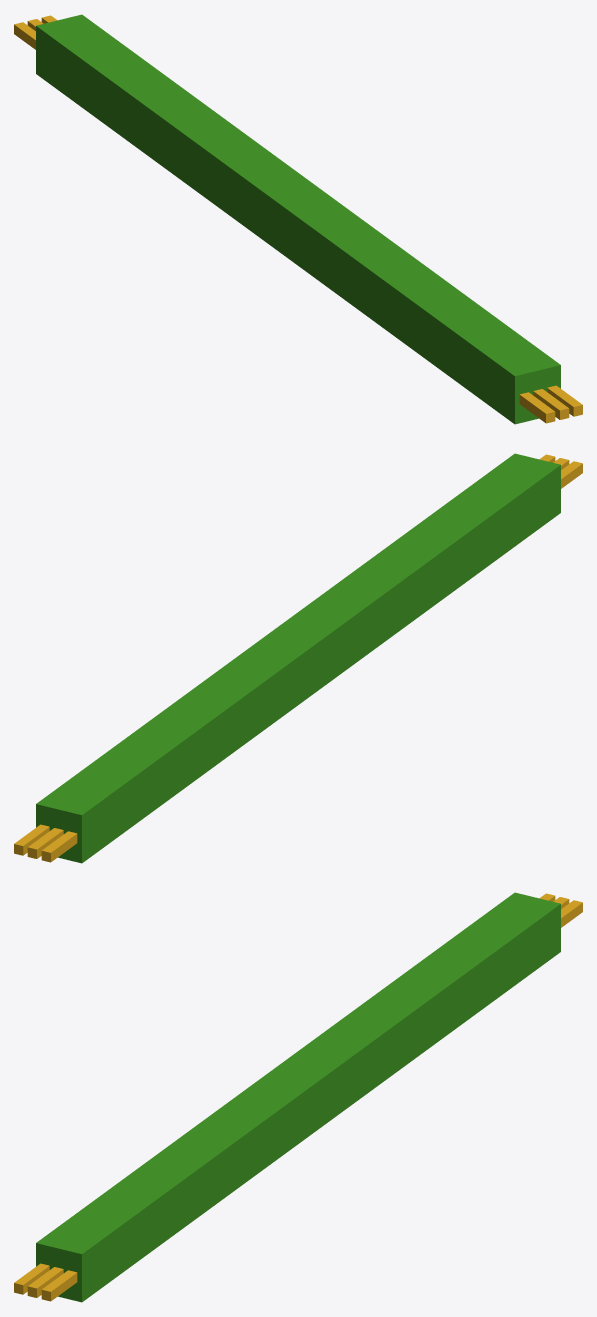
File: wire.gltf
The picture shows the model from 3 angles, top to bottom: view 1: azimuth 30°, elevation 25°; view 2: azimuth 150°, elevation 25°; view 3: azimuth 330°, elevation 25°; orthographic projection.
Visible parts, largest first — view 1: wire; view 2: wire; view 3: wire.
Boxes of the visible parts, x1=… form: wire: x1=14, y1=14, x2=582, y2=424; wire: x1=14, y1=453, x2=582, y2=863; wire: x1=14, y1=892, x2=582, y2=1302.
Bounding box in the file's own units: 0.1 × 0.1 × 2.
1 material, 1 textured.
